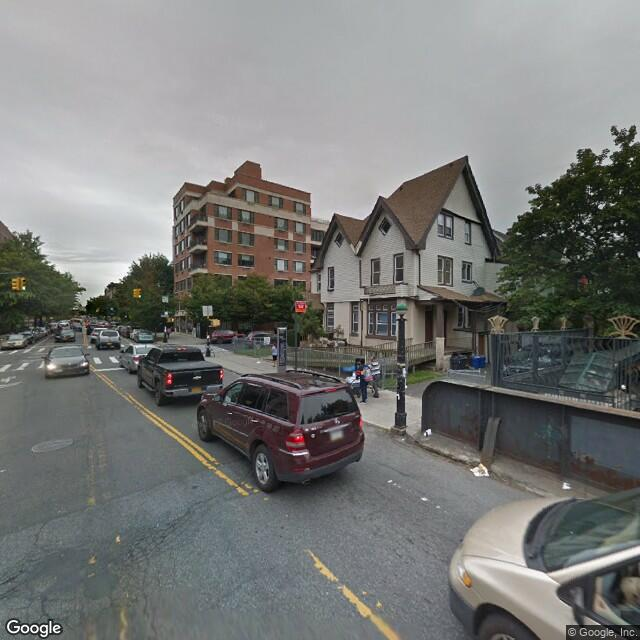litter: (472, 459, 497, 485), (555, 479, 575, 493), (418, 423, 436, 437), (251, 356, 263, 367)
